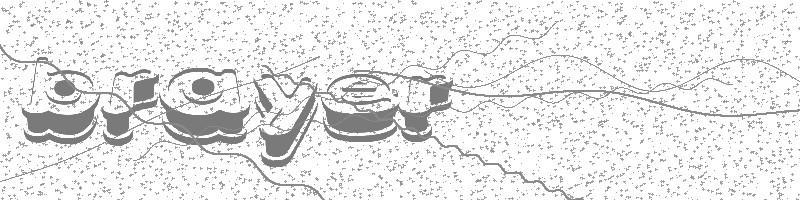a: (160, 68, 249, 146)
b: (19, 56, 100, 145)
e: (321, 73, 400, 144)
r: (102, 68, 160, 148), (403, 73, 454, 145)
y: (250, 73, 322, 169)
